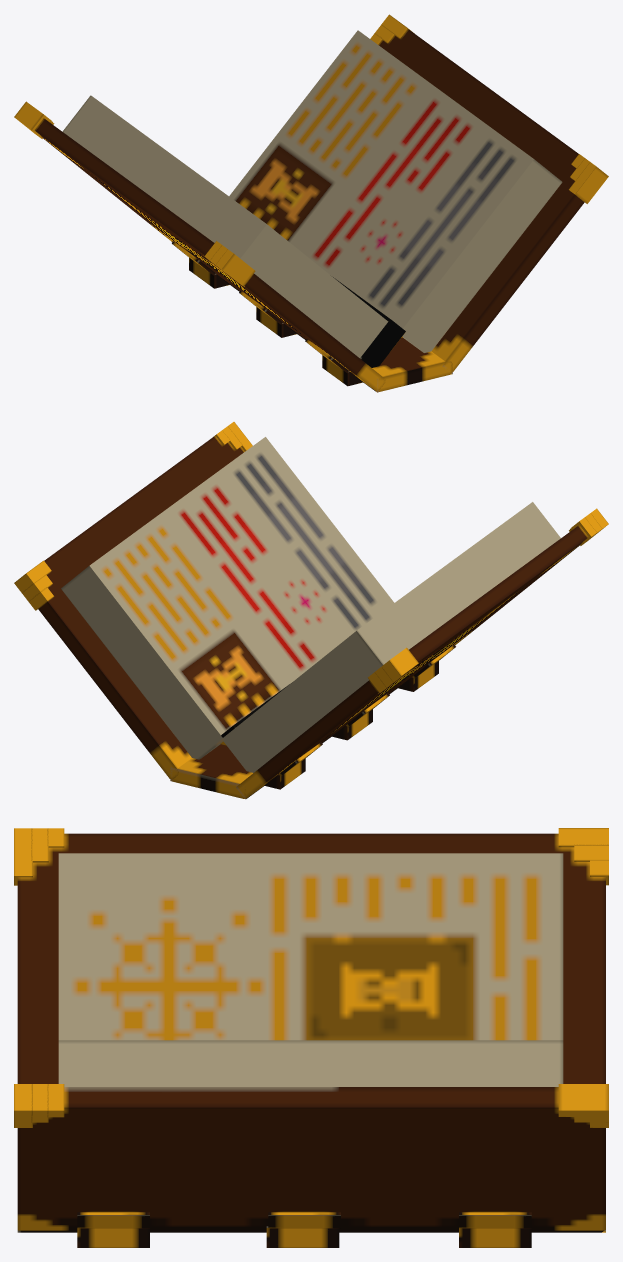
File: magic_book.obj
3 renders of one model, top to bottom at view 1: azimuth 30°, elevation 25°; view 2: azimuth 150°, elevation 25°; view 3: azimuth 270°, elevation 25°, orthographic. The views are drawn at different scales.
Parts seen in each view (by area): view 1: magic_book; view 2: magic_book; view 3: magic_book.
Boxes of the visible parts, <box> form: magic_book: <box>14,14,608,392</box>; magic_book: <box>14,422,608,799</box>; magic_book: <box>14,828,608,1247</box>.
Size of the model in its own units: 0.6344 by 0.2946 by 0.5895.
